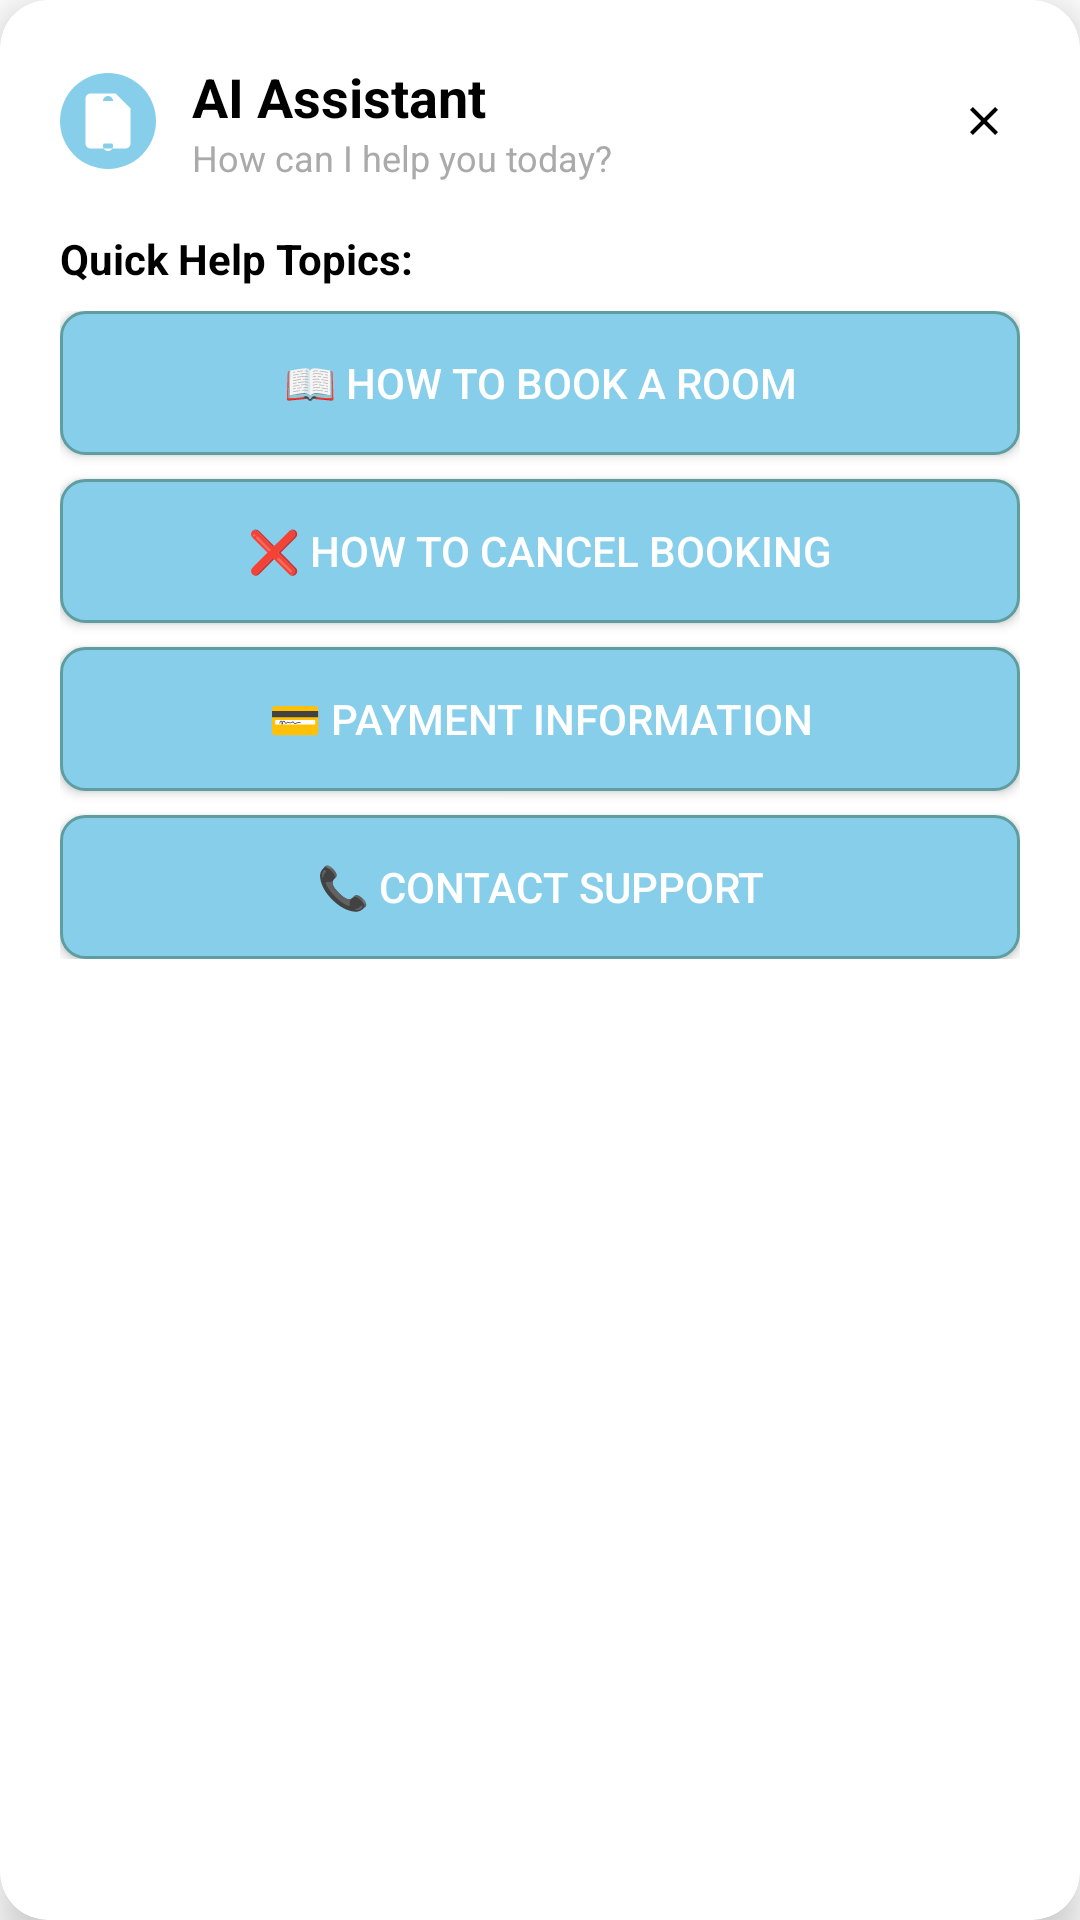

Icon bounding boxes for this 1080x1920 phone screenshot, format (x1, y1, x2, y2):
close: (970, 107, 998, 135)
